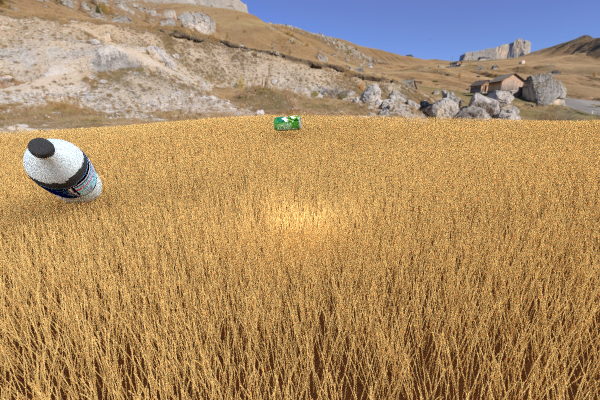bottle: (22, 137, 101, 204)
can: (273, 115, 301, 131)
